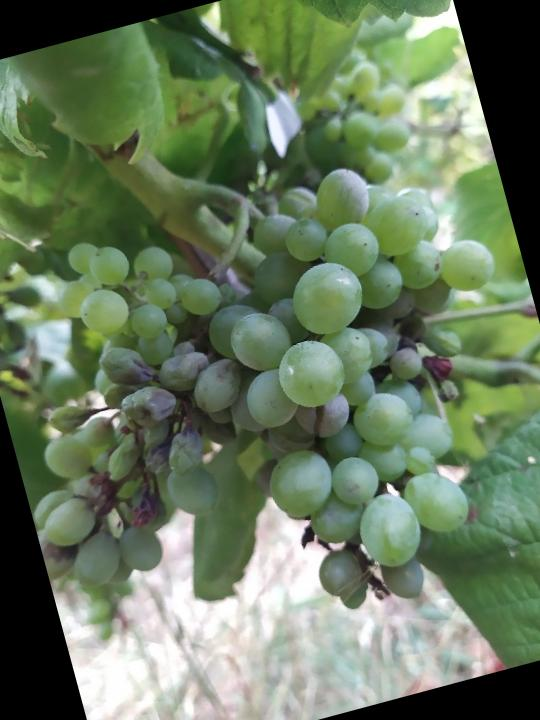grape: (0, 132, 540, 688)
